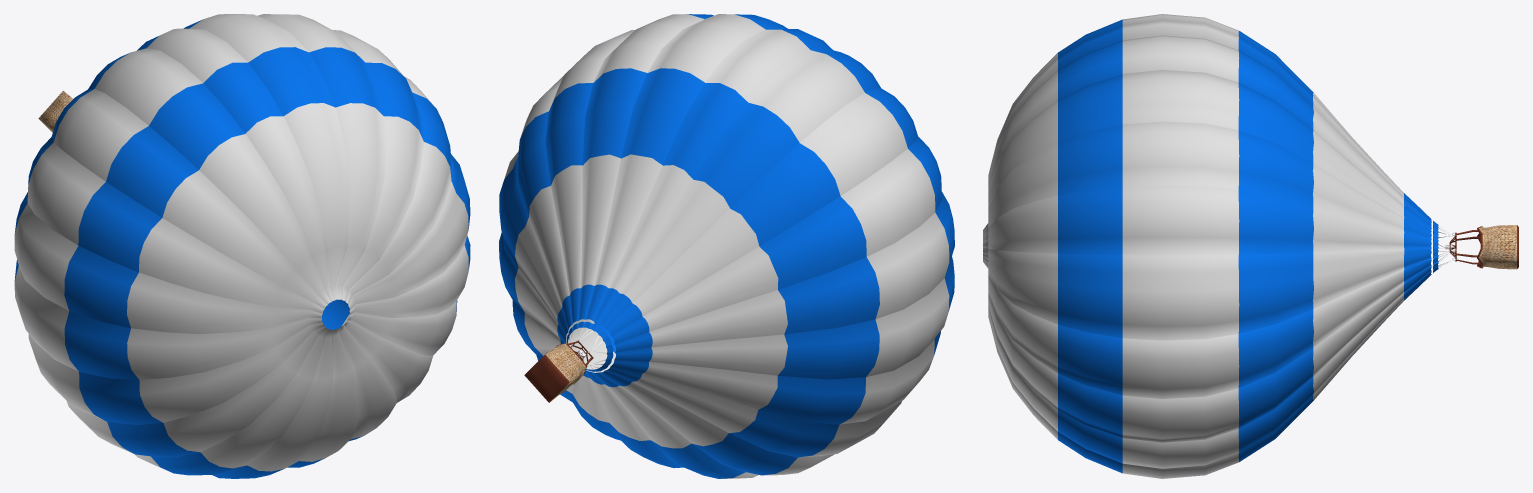
Rendered from baloonBlue.glb.
3 views of the same model, side by side, from view 1: azimuth 30°, elevation 25°; view 2: azimuth 150°, elevation 25°; view 3: azimuth 270°, elevation 25° (orthographic). The views are drawn at different scales.
Visible parts, largest first — view 1: Circle.002, Cube.005; view 2: Circle.002, Cube.005; view 3: Circle.002, Cube.005.
Boxes of the visible parts, x1=… form: Circle.002: x1=14, y1=14, x2=470, y2=478; Cube.005: x1=38, y1=91, x2=73, y2=132; Circle.002: x1=499, y1=14, x2=954, y2=478; Cube.005: x1=524, y1=343, x2=586, y2=402; Circle.002: x1=983, y1=14, x2=1438, y2=478; Cube.005: x1=1477, y1=225, x2=1518, y2=269.
Bounding box in the file's own units: 18.09 × 18.16 × 21.04.
8 materials, 1 textured.
